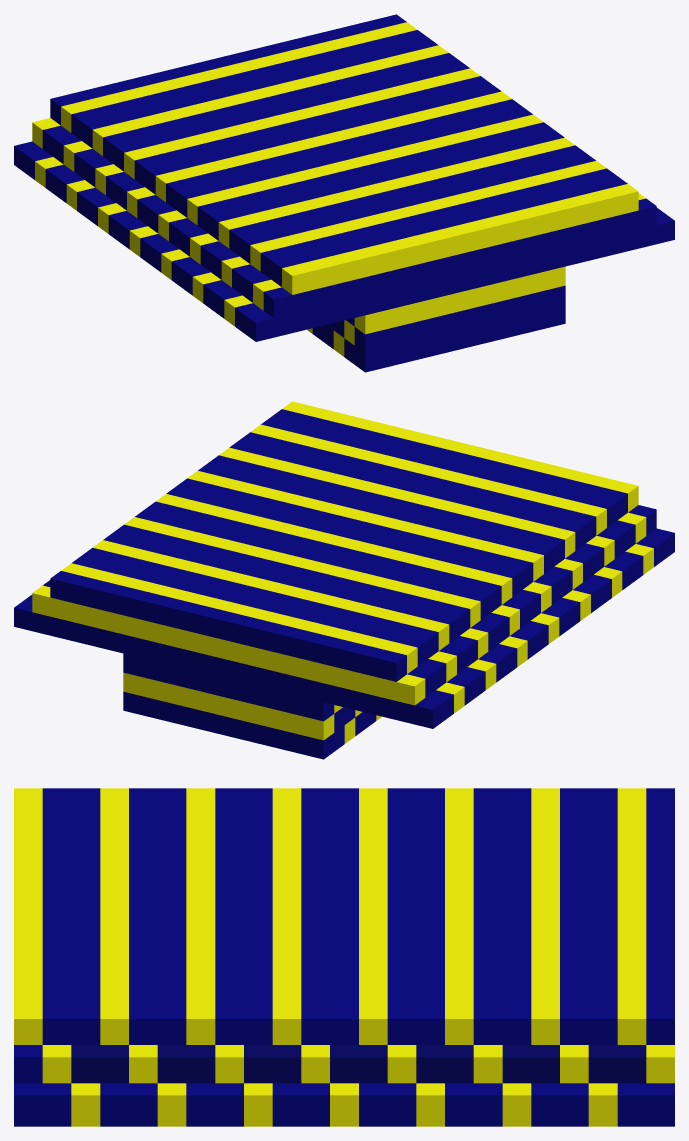
Rendered from TankDriveSeat 1.obj.
3 views of the same model, one above another, from view 1: azimuth 30°, elevation 25°; view 2: azimuth 150°, elevation 25°; view 3: azimuth 270°, elevation 25° (orthographic). The views are drawn at different scales.
Size of the model in its own units: 23 by 6 by 23.
Materials: 1 (1 with a texture image).
